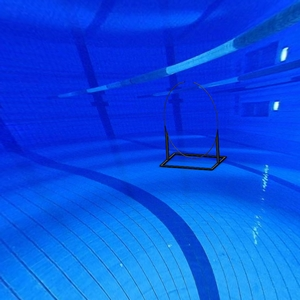circle: (157, 79, 230, 174)
